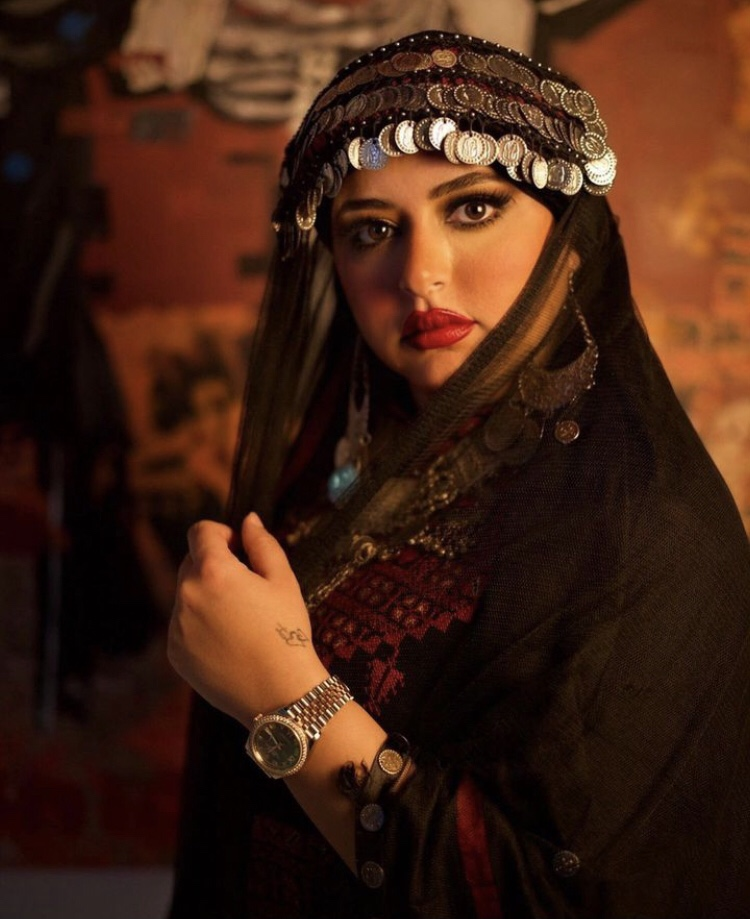Saudi_Founding_Day: (157, 24, 750, 917)
